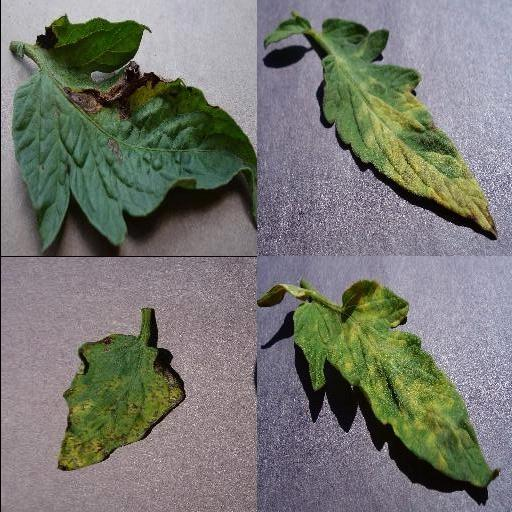Early Blight: (11, 16, 256, 254)
Leaf Mold: (292, 282, 500, 490), (316, 19, 496, 238)
Septoria: (54, 333, 183, 471)
